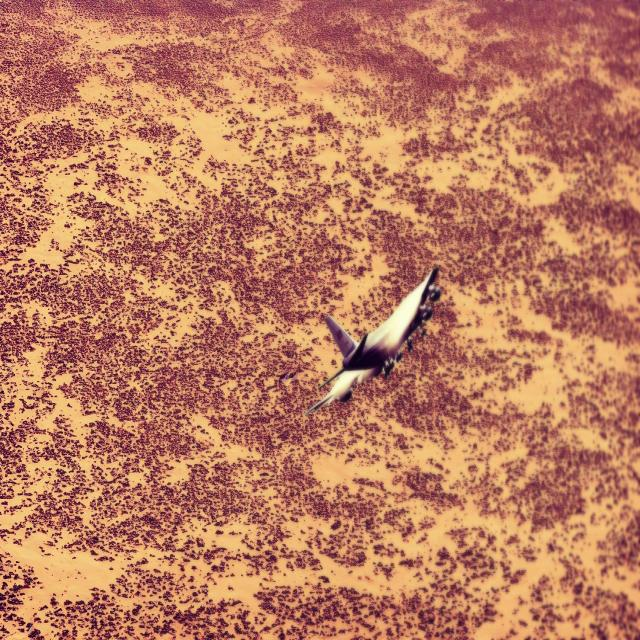airplane: (305, 264, 441, 417)
